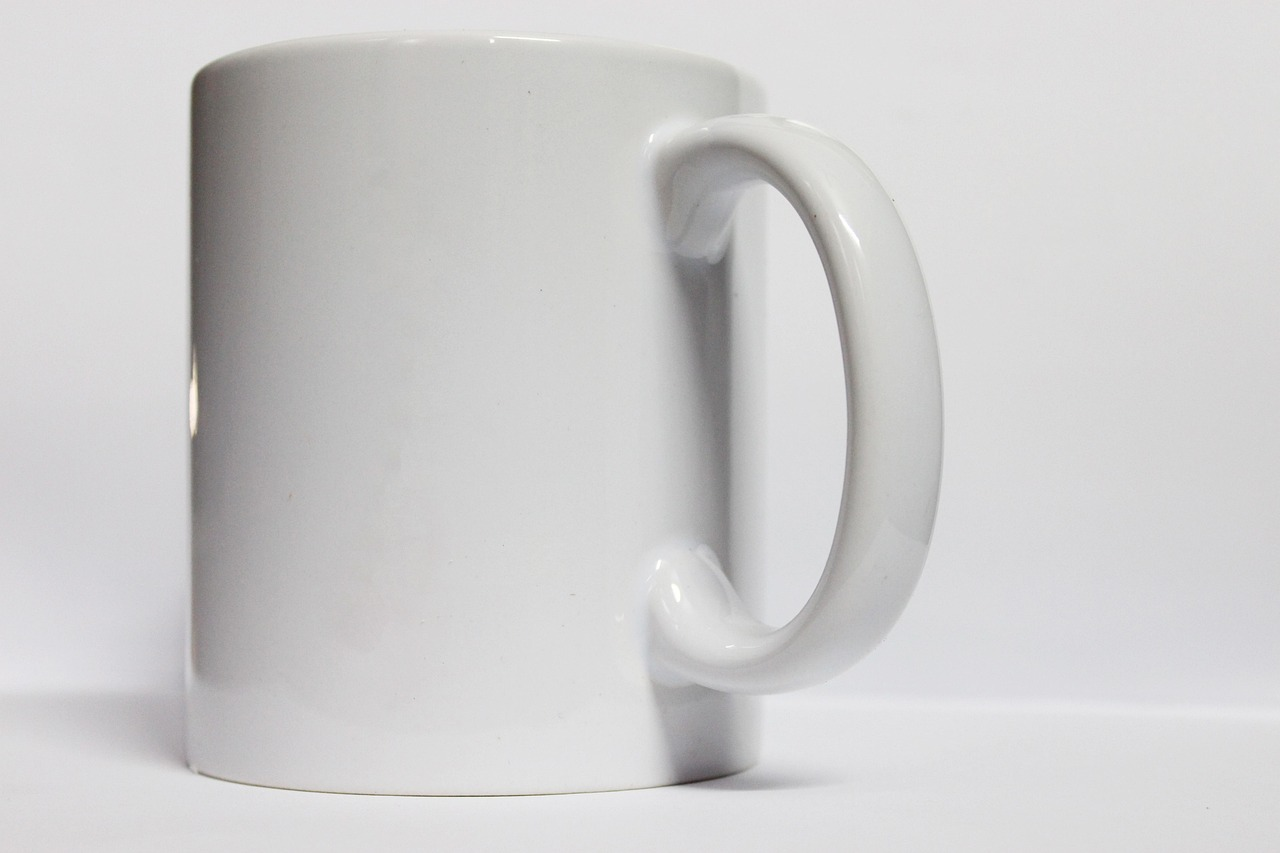mug: (159, 37, 1021, 852)
